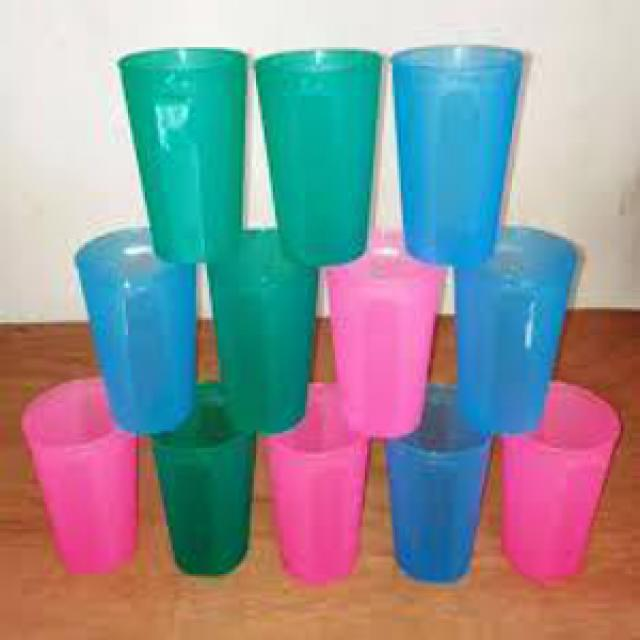plastic cup: (384, 36, 527, 273), (115, 42, 258, 268), (446, 222, 584, 444), (70, 220, 205, 446), (254, 43, 386, 273), (495, 373, 625, 591), (15, 369, 147, 580), (258, 373, 384, 591), (322, 226, 446, 446), (203, 222, 326, 441), (141, 371, 264, 585), (380, 378, 495, 588)
